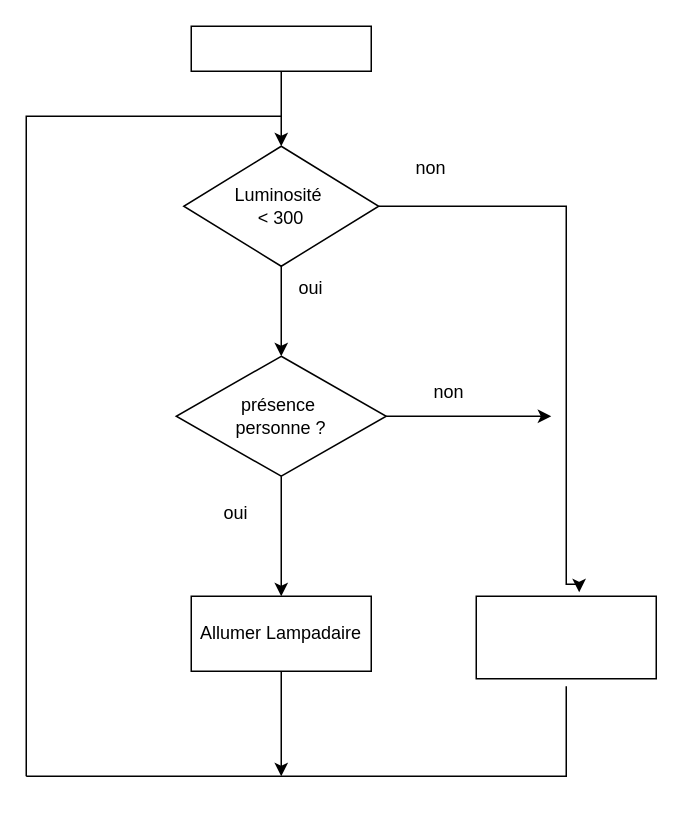
The diagram is 683 pixels wide and 815 high, and some of its shapes have lost their labels. The shapes that lost their labels are listed below. From the top down, each one's centre as x and y in pixels, then its label:
At (280,48): "Debut".
At (565,637): "éteindre lampadaire".
